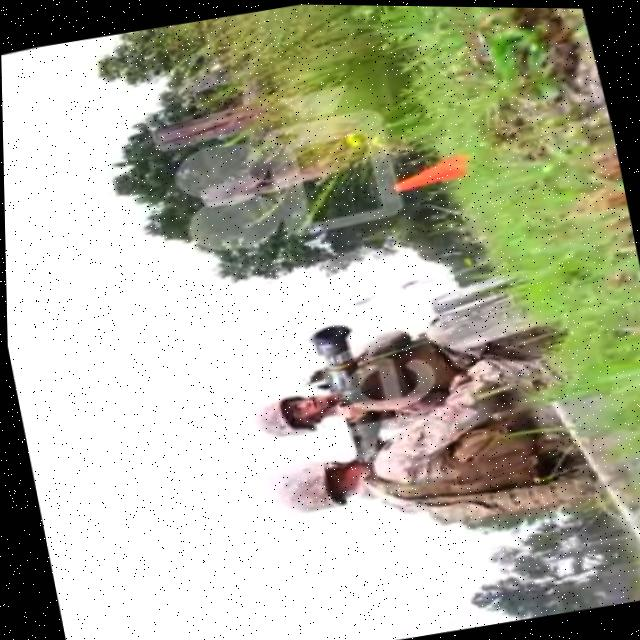rocket: (307, 316, 392, 464)
